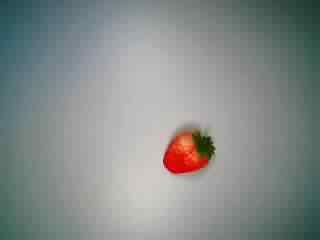strawberry: (156, 117, 224, 181)
